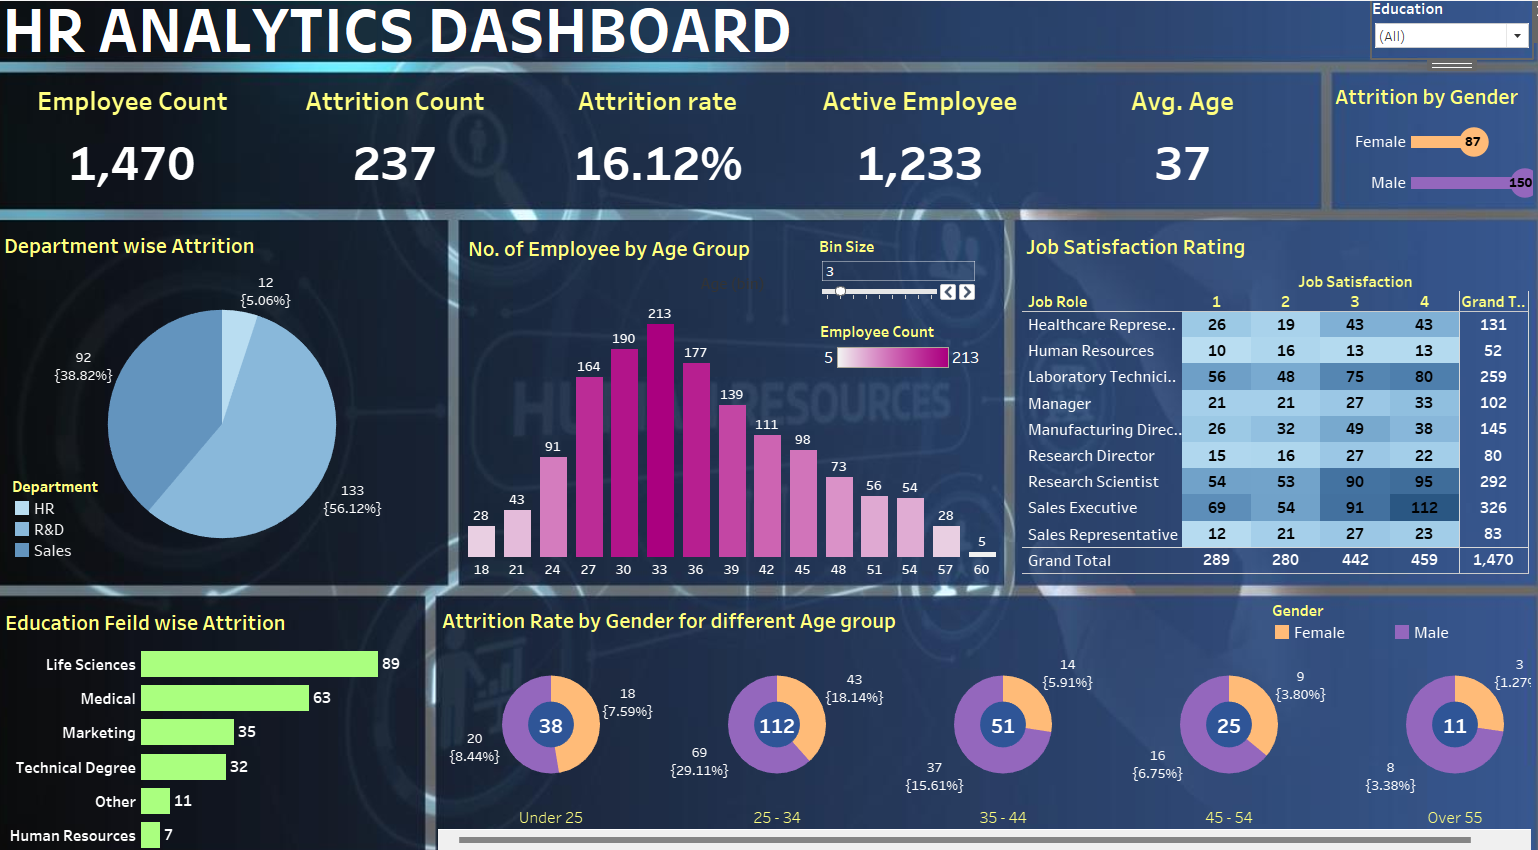

The page's visual inventory and layout, read from the dashboard file:
{"tool":"tableau","page":{"name":"Dashboard ","canvas":[1580,900],"ordinal":0},"visuals":[{"type":"image","param":"C:/Users/Pavithra/Downloads/HR background.pptx.jpg","box":[8,8,1564,884]},{"type":"text","box":[23,14,1218,74]},{"type":"filter","title":"Department wise Attrition","param":"[federated.1mw46vp0plpe30175jerq0jek2cq].[none:Education:nk]","box":[1396,22,160,60]},{"type":"worksheet","title":"KPI","mark":"Automatic","box":[25,101,1313,127]},{"type":"worksheet","title":"Attrition by Gender","mark":"Automatic","rows":["Gender"],"cols":["Calculation_1255659906839592960","Calculation_1255659906839592960"],"box":[1355,102,202,125]},{"type":"worksheet","title":"Department wise Attrition","mark":"Pie","box":[24,251,444,351]},{"type":"worksheet","title":"Job Satisfaction Rating","mark":"Square","rows":["Job Role"],"cols":["Job Satisfaction"],"box":[1046,252,507,346]},{"type":"worksheet","title":"No. of Employee by Age Group","mark":"Automatic","rows":["Employee Count"],"cols":["Age (bin)"],"box":[488,254,536,349]},{"type":"parameter","param":"[Parameters].[Parameter 1]","box":[843,260,169,71]},{"type":"legend","title":"No. of Employee by Age Group","param":"[federated.1mw46vp0plpe30175jerq0jek2cq].[sum:Employee Count:qk]","box":[844,345,164,71]},{"type":"legend","title":"Department wise Attrition","param":"[federated.1mw46vp0plpe30175jerq0jek2cq].[none:Department:nk]","box":[36,500,140,85]},{"type":"legend","title":"Attrition Rate by Gender for different Age group","param":"[federated.1mw46vp0plpe30175jerq0jek2cq].[none:Gender:nk]","box":[1296,624,261,53]},{"type":"worksheet","title":"Attrition Rate by Gender for different Age group","mark":"Pie","rows":["Calculation_1629458676297515009","Calculation_1629458676297515009"],"cols":["CF_age band"],"box":[462,626,1093,248]},{"type":"worksheet","title":"Education Feild wise Attrition","mark":"Automatic","rows":["Education Field"],"cols":["Calculation_1255659906839592960"],"box":[25,628,417,248]}]}

Visuals, with their boxes on the page's 1580x900 design canvas (x1, y1, x2, y2). These are canvas units, not pixel positions in the 1538x850 screenshot, which may show the page scaled, cropped or inside an application window:
image: 8, 8, 1572, 892
text: 23, 14, 1241, 88
"Department wise Attrition" filter: 1396, 22, 1556, 82
"KPI" worksheet: 25, 101, 1338, 228
"Attrition by Gender" worksheet: 1355, 102, 1557, 227
"Department wise Attrition" worksheet (Pie marks): 24, 251, 468, 602
"Job Satisfaction Rating" worksheet (Square marks): 1046, 252, 1553, 598
"No. of Employee by Age Group" worksheet: 488, 254, 1024, 603
parameter: 843, 260, 1012, 331
"No. of Employee by Age Group" legend: 844, 345, 1008, 416
"Department wise Attrition" legend: 36, 500, 176, 585
"Attrition Rate by Gender for different Age group" legend: 1296, 624, 1557, 677
"Attrition Rate by Gender for different Age group" worksheet (Pie marks): 462, 626, 1555, 874
"Education Feild wise Attrition" worksheet: 25, 628, 442, 876
